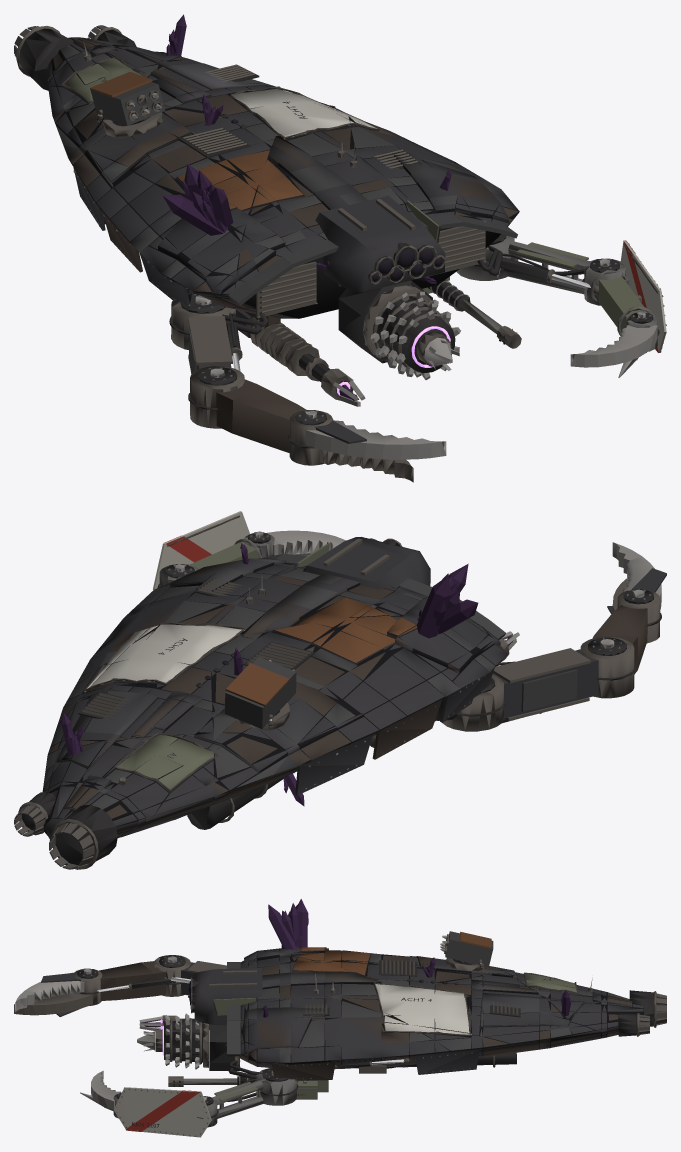
The model's file is Ferrox_Jaeger2.glb.
3 views of the same model, one above another, from view 1: azimuth 30°, elevation 25°; view 2: azimuth 150°, elevation 25°; view 3: azimuth 270°, elevation 25° (orthographic). The views are drawn at different scales.
Visible parts, largest first — view 1: Ferrox_Jaeger2, arm_r, arm_l; view 2: Ferrox_Jaeger2, arm_r, arm_l; view 3: Ferrox_Jaeger2, arm_l, arm_r.
Boxes of the visible parts, bbox=[...] form: Ferrox_Jaeger2: bbox=[14, 14, 521, 406]; arm_r: bbox=[169, 288, 446, 482]; arm_l: bbox=[456, 234, 666, 377]; Ferrox_Jaeger2: bbox=[14, 537, 519, 869]; arm_r: bbox=[435, 542, 666, 731]; arm_l: bbox=[153, 511, 346, 589]; Ferrox_Jaeger2: bbox=[137, 899, 666, 1099]; arm_l: bbox=[80, 1068, 298, 1137]; arm_r: bbox=[14, 955, 226, 1016].
Bounding box in the file's own units: 12.62 × 4.77 × 23.14.
